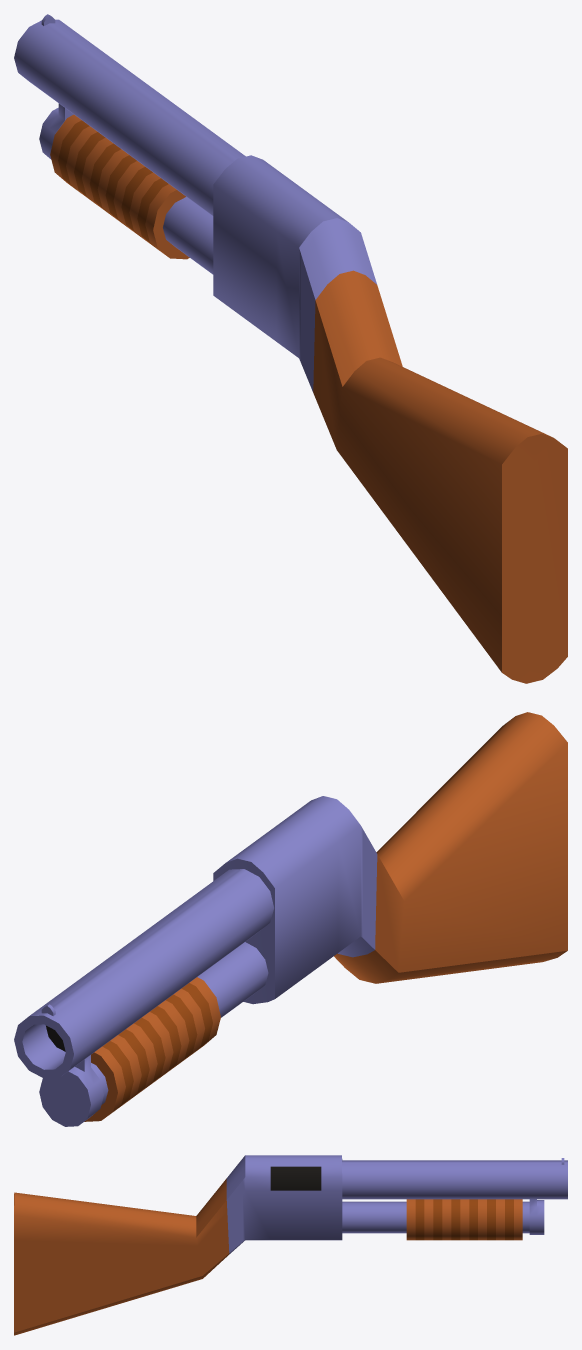
Rendered from Gator Siege_gun1.fbx.
3 renders of one model, top to bottom at view 1: azimuth 30°, elevation 25°; view 2: azimuth 150°, elevation 25°; view 3: azimuth 270°, elevation 25°, orthographic. The views are drawn at different scales.
Parts seen in each view (by area): view 1: gun 1; view 2: gun 1; view 3: gun 1.
Part boxes in pixels (left/top/right/bottom): gun 1: left=14, top=14, right=567, bottom=683; gun 1: left=14, top=712, right=567, bottom=1126; gun 1: left=14, top=1155, right=567, bottom=1335.
Size of the model in its own units: 0.0116 by 0.1451 by 0.0509.
